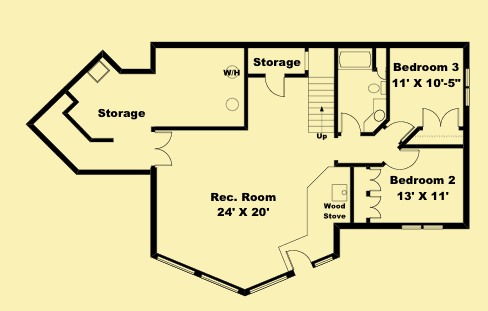bathroom which has tub space, small and large sink: (336, 43, 390, 147)
stairs are near the storage area: (245, 43, 336, 140)
this is another bedroom which has large closets: (350, 146, 468, 231)
this is another storage area: (30, 50, 219, 175)
